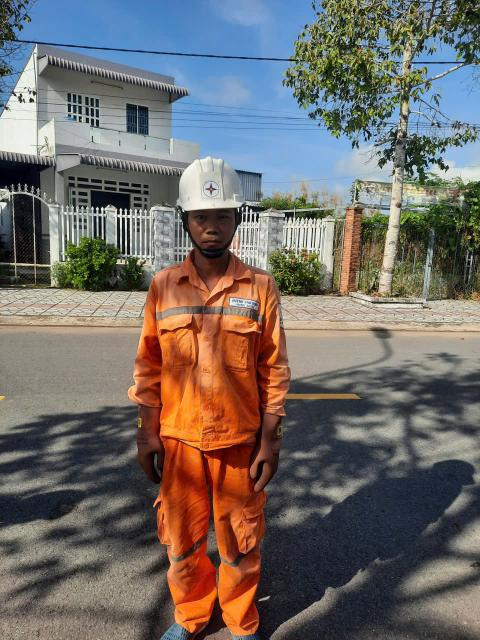gloves: (117, 392, 182, 485), (242, 397, 300, 491)
helmet: (174, 151, 259, 222)
shoes: (142, 621, 216, 640)
